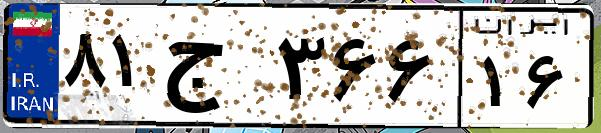1: (475, 38, 525, 113), (110, 28, 158, 98)
3: (270, 28, 330, 110)
6: (385, 28, 445, 110), (330, 28, 385, 110), (525, 38, 570, 115)
8: (57, 26, 110, 100)
ج: (158, 20, 270, 120)
